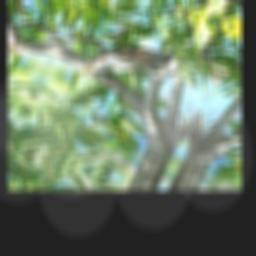Cuckoo: (80, 32, 176, 95)
